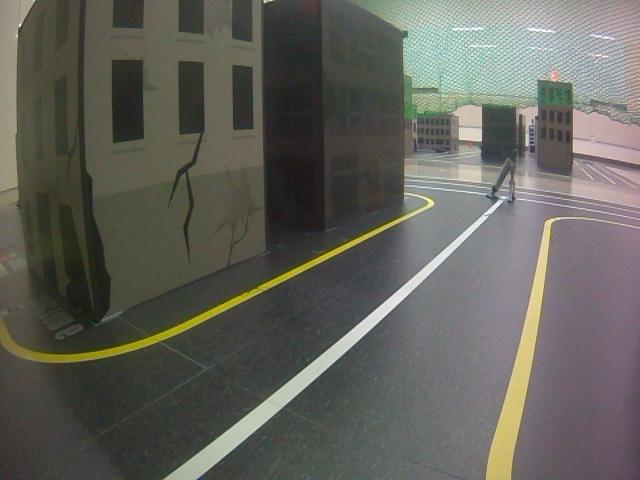Mortar: (487, 151, 516, 205)
